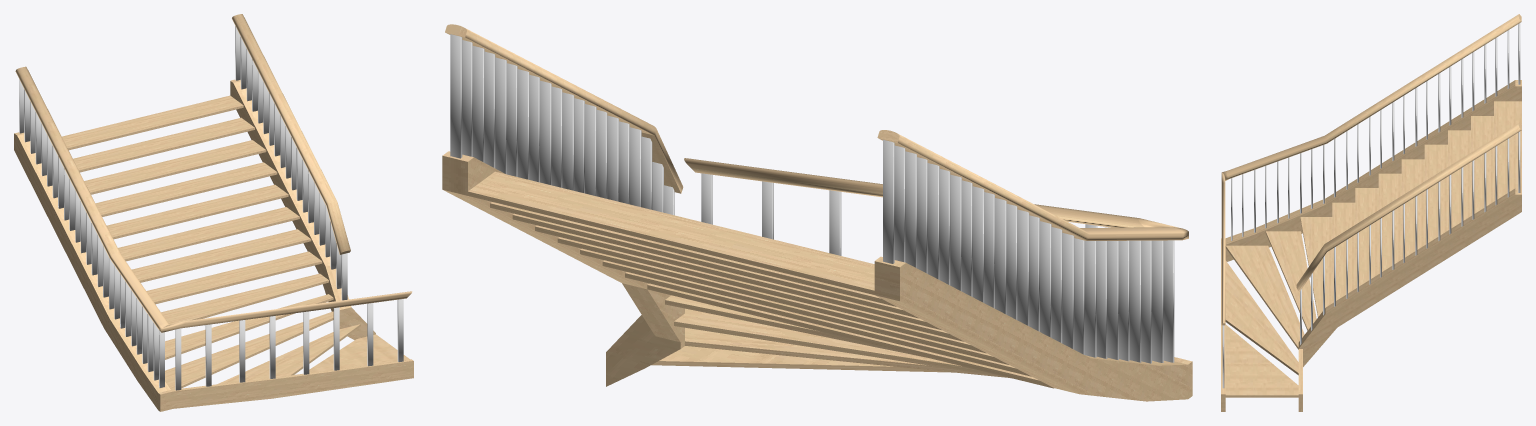
The model's file is sh-contrib-staircase-90-bottom.glb.
3 renders of one model, left to right at view 1: azimuth 30°, elevation 25°; view 2: azimuth 150°, elevation 25°; view 3: azimuth 270°, elevation 25°, orthographic. The views are drawn at different scales.
Visible parts, largest first — view 1: 17_17, 27_27.003; view 2: 17_17, 27_27.003; view 3: 17_17, 27_27.003.
Boxes of the visible parts, bbox=[...] form: 17_17: bbox=[14, 14, 413, 411]; 27_27.003: bbox=[19, 26, 403, 390]; 17_17: bbox=[442, 24, 1192, 401]; 27_27.003: bbox=[450, 34, 1174, 363]; 17_17: bbox=[1221, 14, 1521, 411]; 27_27.003: bbox=[1222, 23, 1520, 388].
Bounding box in the file's own units: 1 × 1 × 1.
2 materials, 1 textured.
